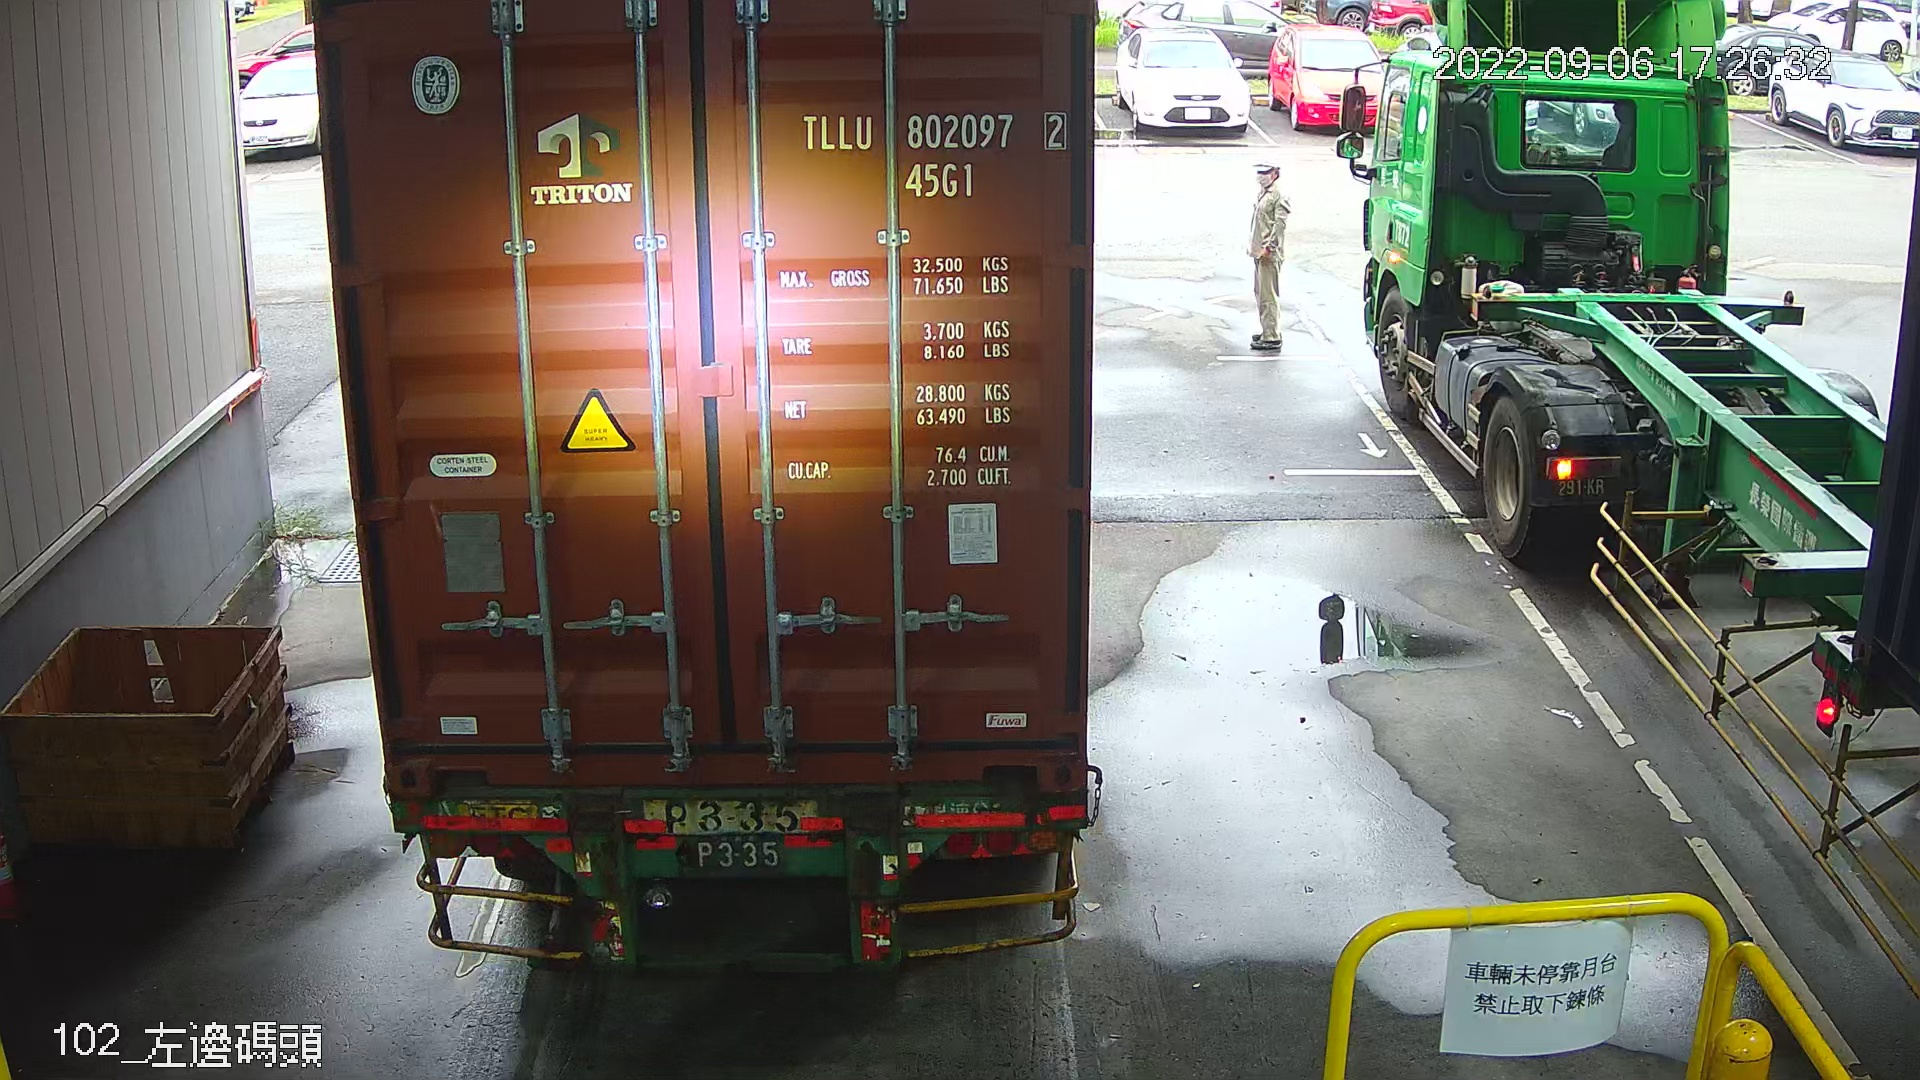container: (794, 98, 1075, 204)
